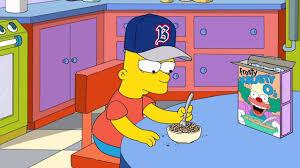Bart: (95, 9, 202, 164)
